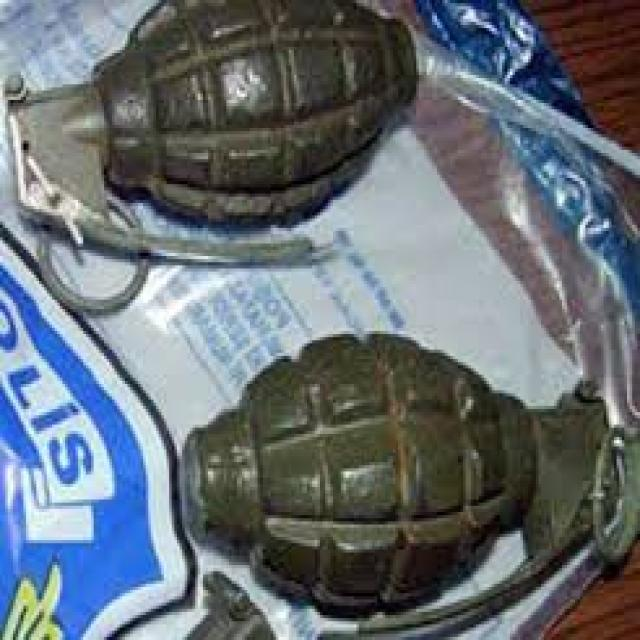grenade: (170, 319, 640, 640), (2, 1, 429, 325)
